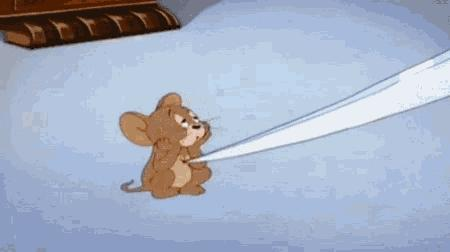jerry: (119, 92, 215, 200)
